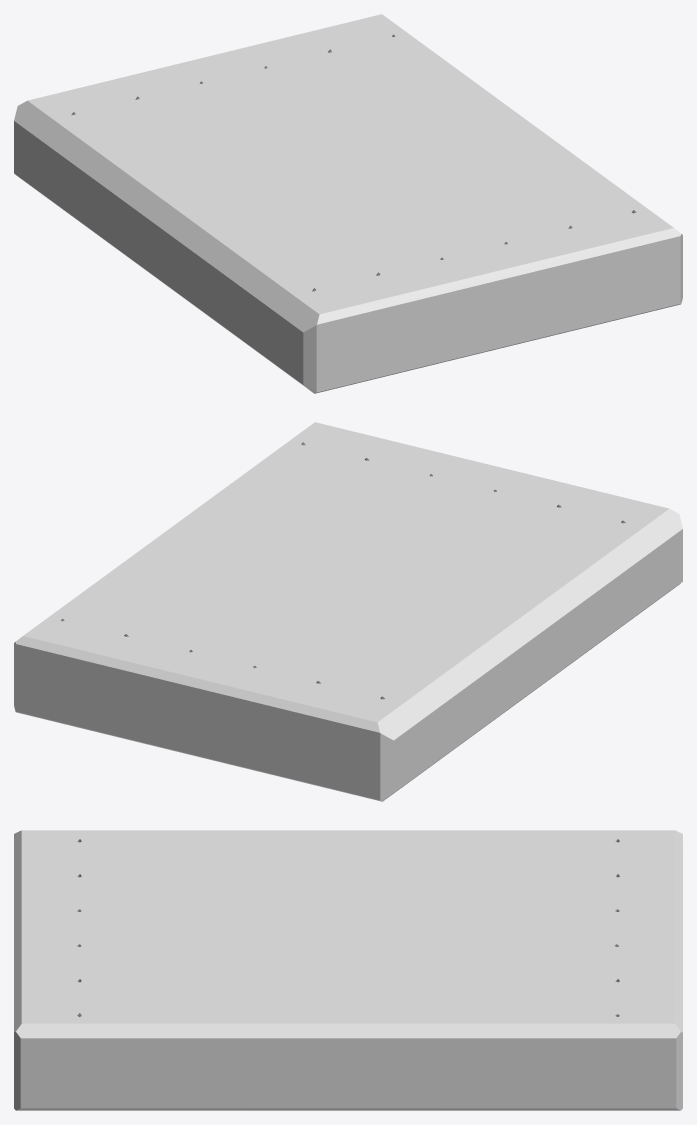
Rendered from SM_pallet_01.fbx.
3 renders of one model, top to bottom at view 1: azimuth 30°, elevation 25°; view 2: azimuth 150°, elevation 25°; view 3: azimuth 270°, elevation 25°, orthographic. The views are drawn at different scales.
Visible parts, largest first — view 1: SM_pallet_01_ConvexHulls; view 2: SM_pallet_01_ConvexHulls; view 3: SM_pallet_01_ConvexHulls.
Boxes of the visible parts, x1=… form: SM_pallet_01_ConvexHulls: x1=14, y1=14, x2=682, y2=393; SM_pallet_01_ConvexHulls: x1=14, y1=422, x2=682, y2=801; SM_pallet_01_ConvexHulls: x1=14, y1=830, x2=682, y2=1110.
Bounding box in the file's own units: 256 × 351 × 50.49.
